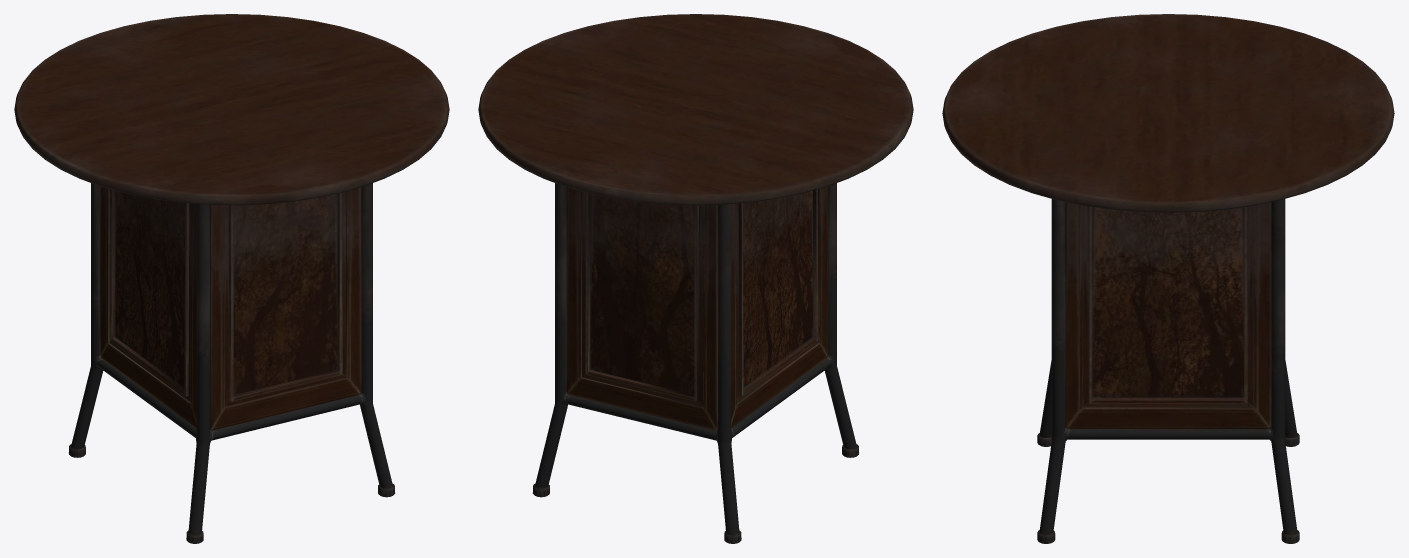
File: polyhaven-round-wooden-table-02.glb
3 views of the same model, side by side, from view 1: azimuth 30°, elevation 25°; view 2: azimuth 150°, elevation 25°; view 3: azimuth 270°, elevation 25° (orthographic). The views are drawn at different scales.
Parts seen in each view (by area): view 1: round_wooden_table_02; view 2: round_wooden_table_02; view 3: round_wooden_table_02.
Boxes of the visible parts, left/top/right/bottom form: round_wooden_table_02: left=14, top=14, right=449, bottom=543; round_wooden_table_02: left=478, top=14, right=913, bottom=543; round_wooden_table_02: left=942, top=14, right=1394, bottom=543.
Bounding box in the file's own units: 0.7962 × 0.746 × 0.7962.
1 material, 1 textured.
